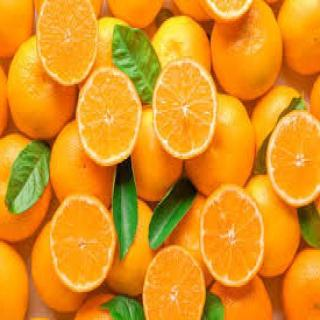orange: (75, 56, 147, 172), (150, 58, 218, 174), (45, 195, 119, 298), (183, 92, 253, 198), (31, 0, 101, 102)
